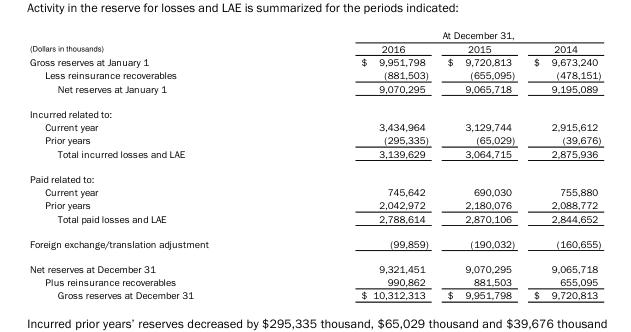table: (28, 29, 600, 300)
table column: (28, 29, 284, 300), (284, 29, 437, 300), (437, 29, 523, 300), (523, 29, 600, 300)
table column header: (28, 29, 600, 54)
table projected row header: (28, 100, 600, 119), (28, 165, 600, 184)
table row: (28, 230, 600, 255), (28, 81, 600, 100), (28, 100, 600, 119), (28, 146, 600, 165), (28, 165, 600, 184), (28, 211, 600, 230), (28, 255, 600, 274), (28, 54, 600, 68), (28, 119, 600, 133), (28, 184, 600, 198), (28, 274, 600, 288), (28, 41, 600, 54), (28, 68, 600, 81), (28, 133, 600, 146), (28, 198, 600, 211), (28, 29, 600, 41), (28, 288, 600, 300)
table spanning cell: (28, 29, 284, 54), (284, 29, 600, 41)
